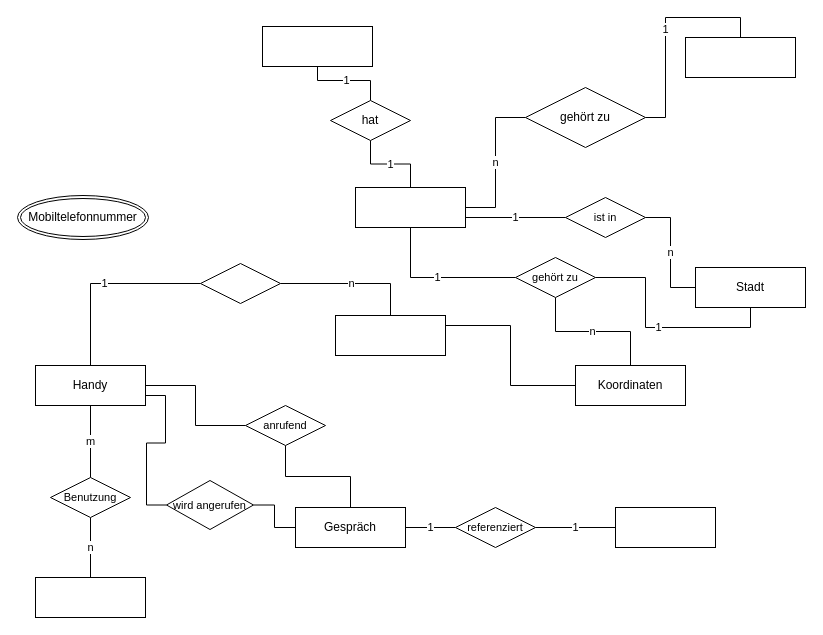
This 823x635 diagram has some shape labels left out. Each missing label, with the centre of its shape:
Audiodatei: pixel 665 527
geortet: pixel 240 283
Land: pixel 410 207
Landesvorwahl: pixel 317 46
Ortung: pixel 390 335
Person: pixel 90 597
Region: pixel 740 57
